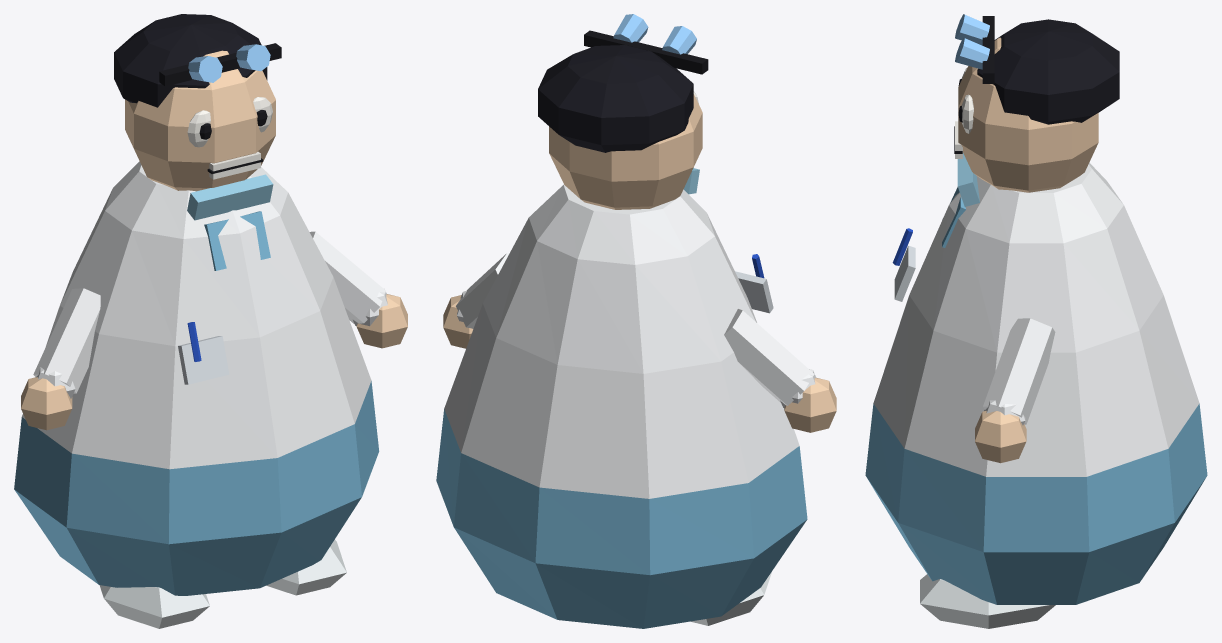
The model's file is npc_molina.glb.
3 renders of one model, left to right at view 1: azimuth 30°, elevation 25°; view 2: azimuth 150°, elevation 25°; view 3: azimuth 270°, elevation 25°, orthographic.
Parts seen in each view (by area): view 1: body_dentist_coat, body_scrubs_blue (×2), head_skin_crema, head_hair_black_shiny, arms_dentist_coat, legs_clogs_white, arms_skin_crema, face_mask_blue, body_coat_pocket, face_white, cap_loupe_glass (×2), cap_black; view 2: body_dentist_coat, body_scrubs_blue, head_hair_black_shiny, head_skin_crema, arms_dentist_coat, arms_skin_crema, cap_black, cap_loupe_glass (×2), body_coat_pocket, legs_clogs_white; view 3: body_dentist_coat, body_scrubs_blue, head_hair_black_shiny, head_skin_crema, arms_dentist_coat, legs_clogs_white, arms_skin_crema, cap_loupe_glass (×2), face_mask_blue, body_coat_pocket, cap_black, face_white.
Part boxes in pixels (left/top/right/bottom): body_dentist_coat: left=22, top=161, right=371, bottom=469; body_scrubs_blue (×2): left=14, top=211, right=379, bottom=595; head_skin_crema: left=125, top=50, right=275, bottom=191; head_hair_black_shiny: left=114, top=14, right=267, bottom=107; arms_dentist_coat: left=33, top=231, right=387, bottom=398; legs_clogs_white: left=99, top=539, right=346, bottom=628; arms_skin_crema: left=21, top=294, right=407, bottom=430; face_mask_blue: left=187, top=174, right=273, bottom=220; body_coat_pocket: left=178, top=336, right=229, bottom=384; face_white: left=187, top=97, right=272, bottom=179; cap_loupe_glass (×2): left=188, top=44, right=270, bottom=82; cap_black: left=159, top=43, right=281, bottom=86; body_dentist_coat: left=444, top=184, right=799, bottom=498; body_scrubs_blue: left=436, top=409, right=807, bottom=628; head_hair_black_shiny: left=538, top=45, right=693, bottom=152; head_skin_crema: left=549, top=94, right=702, bottom=209; arms_dentist_coat: left=456, top=253, right=816, bottom=407; arms_skin_crema: left=443, top=295, right=836, bottom=432; cap_black: left=584, top=30, right=708, bottom=74; cap_loupe_glass (×2): left=613, top=14, right=696, bottom=54; body_coat_pocket: left=735, top=271, right=773, bottom=313; legs_clogs_white: left=690, top=571, right=772, bottom=625; body_dentist_coat: left=873, top=163, right=1199, bottom=476; body_scrubs_blue: left=865, top=403, right=1207, bottom=604; head_hair_black_shiny: left=977, top=19, right=1119, bottom=124; head_skin_crema: left=958, top=37, right=1098, bottom=192; arms_dentist_coat: left=983, top=318, right=1055, bottom=425; legs_clogs_white: left=920, top=574, right=1055, bottom=628; arms_skin_crema: left=975, top=411, right=1026, bottom=463; cap_loupe_glass (×2): left=955, top=14, right=989, bottom=69; face_mask_blue: left=957, top=153, right=979, bottom=206; body_coat_pocket: left=894, top=245, right=915, bottom=301; cap_black: left=982, top=16, right=994, bottom=83; face_white: left=955, top=68, right=973, bottom=158.
Bounding box in the file's own units: 1.13 × 1.56 × 0.86.
